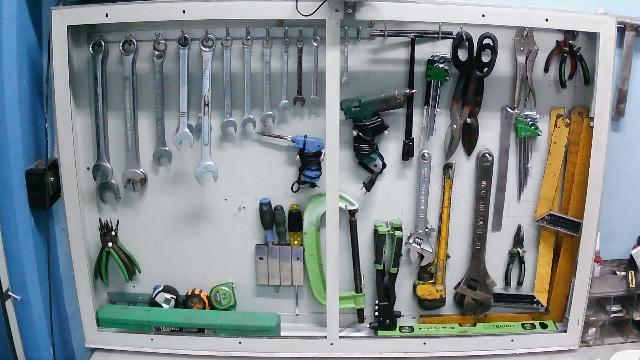kunci_inggris: (404, 149, 437, 268)
